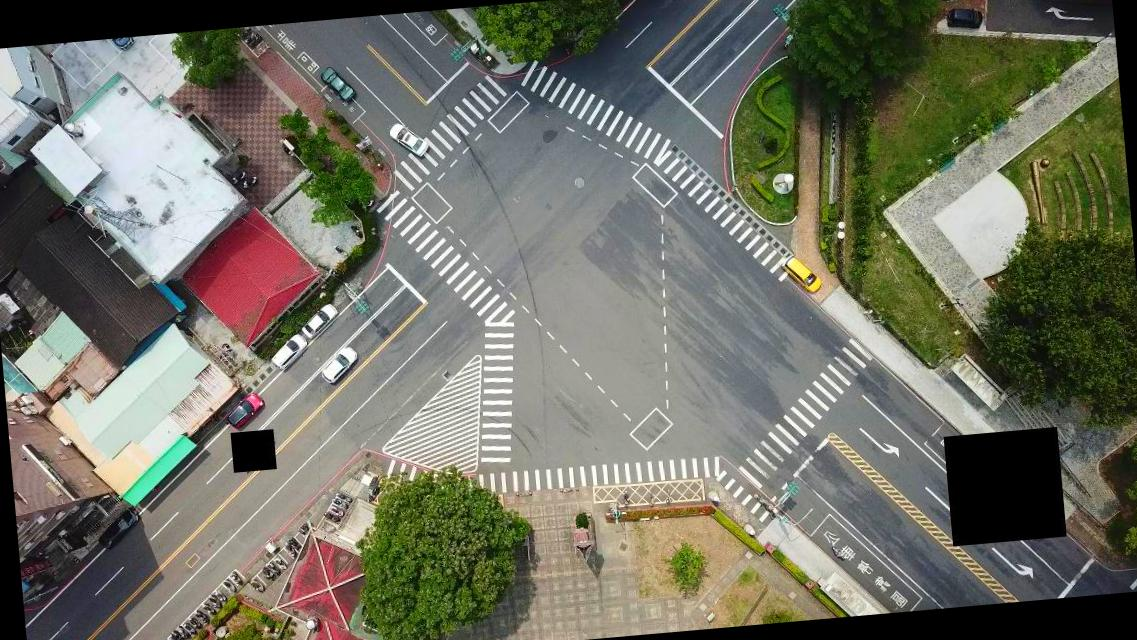vehicle: (780, 251, 822, 294), (385, 120, 430, 160), (96, 508, 138, 550), (268, 333, 310, 373), (318, 344, 358, 386), (317, 64, 357, 104), (223, 391, 265, 429), (300, 301, 340, 338), (944, 6, 982, 30)
